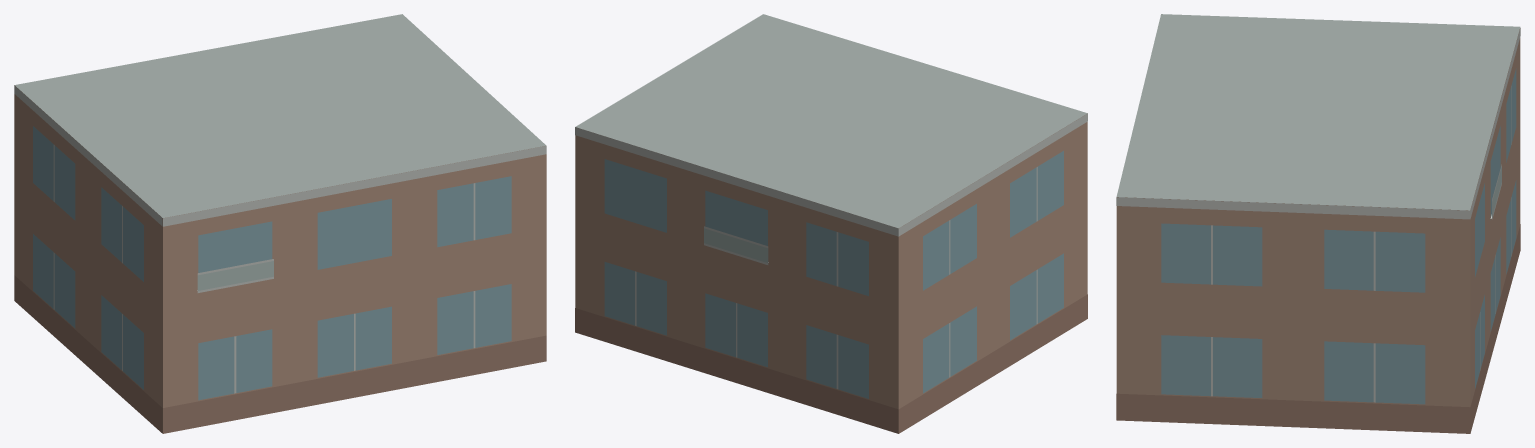
The model's file is survey-upis-32656664.glb.
3 renders of one model, left to right at view 1: azimuth 30°, elevation 25°; view 2: azimuth 150°, elevation 25°; view 3: azimuth 270°, elevation 25°, orthographic. The views are drawn at different scales.
Visible parts, largest first — view 1: survey-upis-32656664.tmp; view 2: survey-upis-32656664.tmp; view 3: survey-upis-32656664.tmp.
Part boxes in pixels (bbox=[...]): survey-upis-32656664.tmp: bbox=[14, 14, 546, 433]; survey-upis-32656664.tmp: bbox=[575, 14, 1087, 433]; survey-upis-32656664.tmp: bbox=[1116, 14, 1520, 433].
Bounding box in the file's own units: 11.52 × 6.1 × 10.01.
